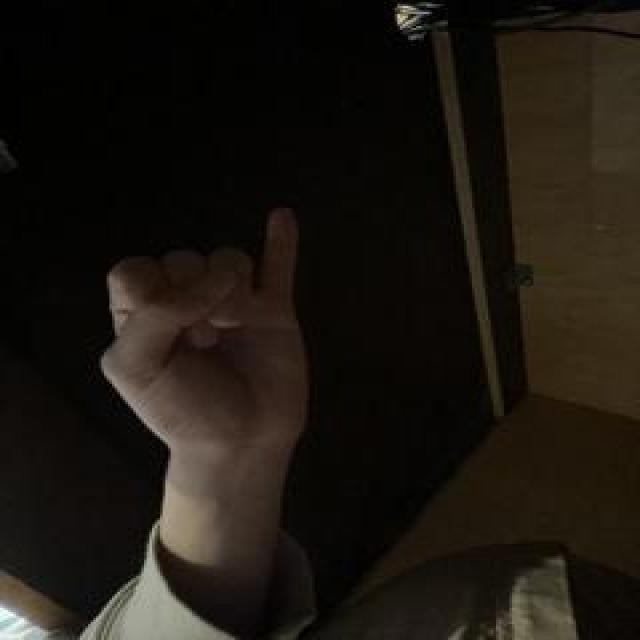I: (96, 198, 320, 462)
